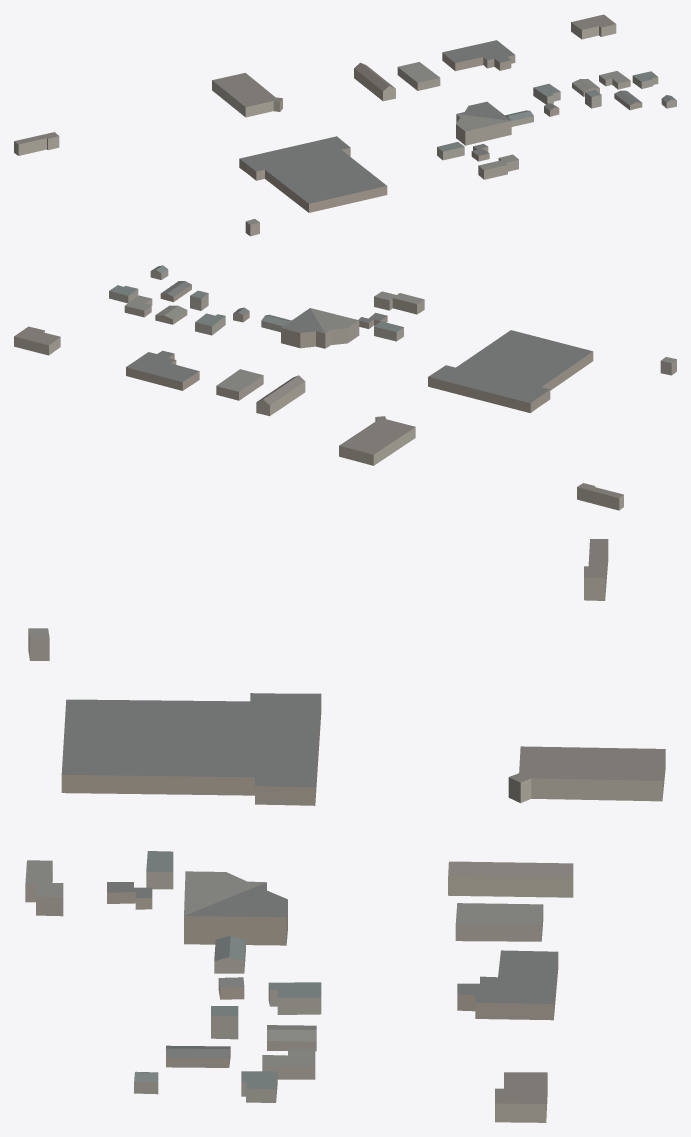
File: d8b7b7fbbdd2-chunk-1205_11844.glb
3 views of the same model, one above another, from view 1: azimuth 30°, elevation 25°; view 2: azimuth 150°, elevation 25°; view 3: azimuth 270°, elevation 25° (orthographic). The views are drawn at different scales.
Visible parts, largest first — view 1: building_62875, building_29001, building_19649, building_39938, building_54900, building_27956, building_67948, building_58008, building_56584, building_85133, building_81738, building_10915 (+3 smaller); view 2: building_62875, building_29001, building_19649, building_85133, building_39938, building_54900, building_27956, building_67948, building_56584, building_58008, building_81738, building_10915 (+4 smaller); view 3: building_62875, building_29001, building_19649, building_85133, building_54900, building_27956, building_67948, building_39938, building_56584, building_81738, building_153681, building_10915 (+7 smaller).
Boxes of the visible parts, <box> form: building_62875: <box>239,136,387,212</box>; building_29001: <box>212,73,282,117</box>; building_19649: <box>442,40,515,71</box>; building_39938: <box>456,114,511,145</box>; building_54900: <box>354,62,395,101</box>; building_27956: <box>397,62,440,90</box>; building_67948: <box>571,14,616,39</box>; building_58008: <box>14,132,59,155</box>; building_56584: <box>478,154,518,179</box>; building_85133: <box>457,101,510,120</box>; building_81738: <box>533,84,560,104</box>; building_10915: <box>599,71,630,89</box>; building_62875: <box>428,330,593,413</box>; building_29001: <box>339,416,415,465</box>; building_19649: <box>126,350,199,390</box>; building_85133: <box>281,308,325,348</box>; building_39938: <box>310,308,359,348</box>; building_54900: <box>256,375,305,416</box>; building_27956: <box>216,369,263,400</box>; building_67948: <box>14,326,60,355</box>; building_56584: <box>374,291,424,314</box>; building_58008: <box>577,483,623,510</box>; building_81738: <box>195,313,225,335</box>; building_10915: <box>124,295,152,317</box>; building_62875: <box>61,693,321,805</box>; building_29001: <box>508,746,665,803</box>; building_19649: <box>457,950,558,1020</box>; building_85133: <box>184,882,287,945</box>; building_54900: <box>448,861,573,897</box>; building_27956: <box>455,903,543,941</box>; building_67948: <box>495,1072,547,1122</box>; building_39938: <box>184,871,265,915</box>; building_56584: <box>25,860,63,916</box>; building_81738: <box>268,982,321,1014</box>; building_153681: <box>166,1045,230,1067</box>; building_10915: <box>262,1049,315,1079</box>.
Bounding box in the file's own units: 396 × 9.3 × 191.
